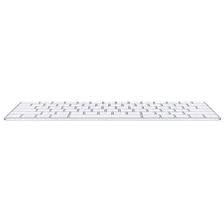keyboard: (2, 95, 224, 128)
